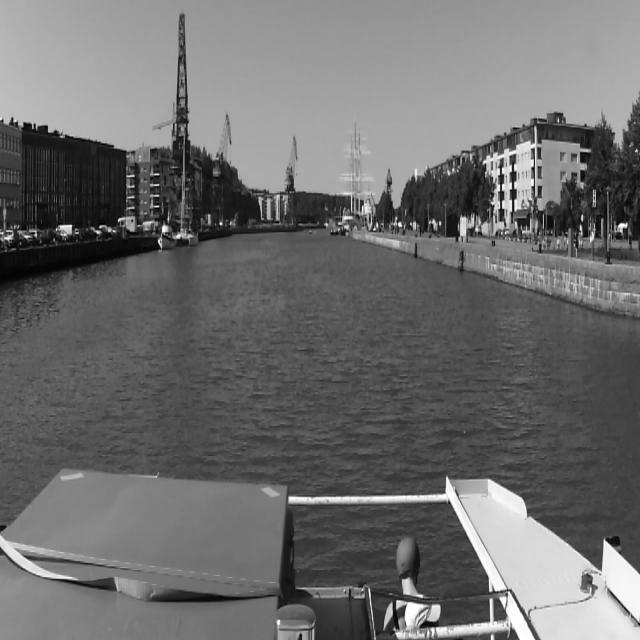ship: (176, 133, 198, 247), (157, 225, 175, 249)
